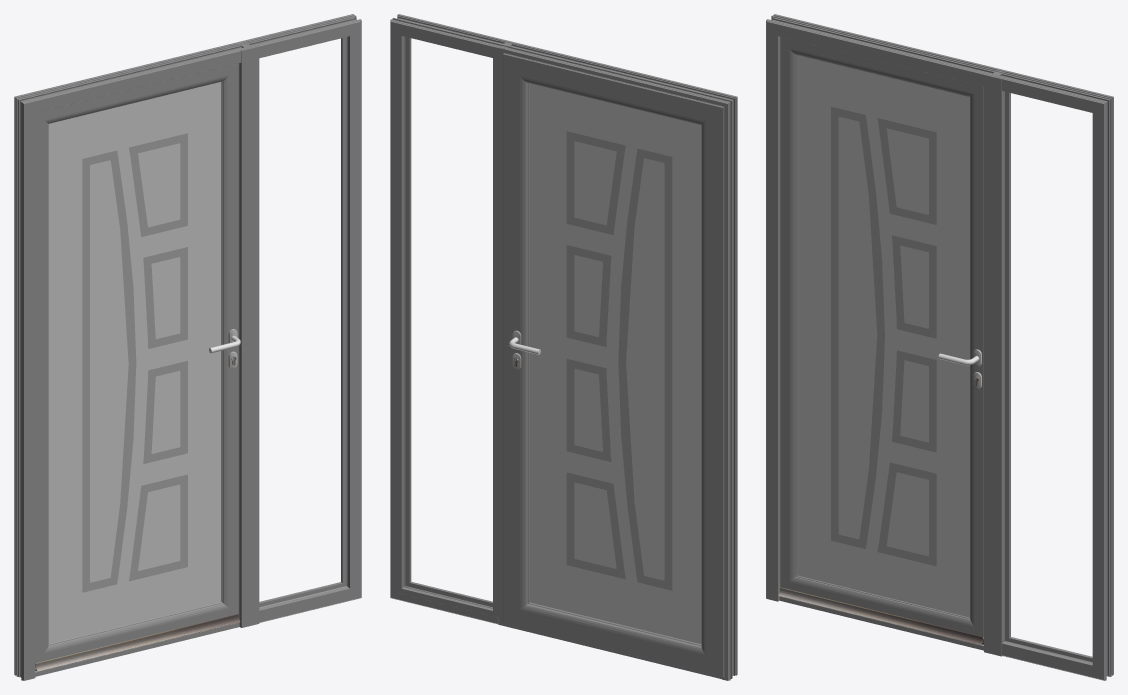
The picture shows the model from 3 angles, left to right: view 1: azimuth 30°, elevation 25°; view 2: azimuth 150°, elevation 25°; view 3: azimuth 330°, elevation 25°; orthographic projection.
Parts seen in each view (by area): view 1: fosco_26, aroFixo, aroMovel, transparente_26, montanteCentral, bite, borracha, escovas, rodaPe; view 2: fosco_26, aroMovel, aroFixo, transparente_26, bite, montanteCentral, borracha, rodaPe; view 3: fosco_26, aroFixo, aroMovel, transparente_26, montanteCentral, bite, escovas, borracha, rodaPe.
Boxes of the visible parts, box(x1,y1,x2,y2) form: fosco_26: box(48, 82, 221, 643); aroFixo: box(14, 14, 361, 680); aroMovel: box(35, 63, 238, 663); transparente_26: box(82, 133, 187, 592); montanteCentral: box(238, 42, 259, 627); bite: box(259, 37, 346, 607); borracha: box(259, 37, 345, 606); escovas: box(35, 614, 240, 671); rodaPe: box(35, 622, 239, 676); fosco_26: box(529, 83, 701, 644); aroMovel: box(503, 53, 724, 677); aroFixo: box(390, 14, 737, 680); transparente_26: box(566, 131, 672, 590); bite: box(396, 29, 498, 617); montanteCentral: box(498, 40, 518, 626); borracha: box(404, 36, 492, 608); rodaPe: box(505, 624, 721, 679); fosco_26: box(797, 55, 969, 617); aroFixo: box(766, 14, 1113, 680); aroMovel: box(780, 37, 983, 638); transparente_26: box(831, 106, 936, 566); montanteCentral: box(984, 70, 1004, 656); bite: box(1005, 91, 1092, 661); escovas: box(778, 587, 983, 645); borracha: box(1006, 92, 1092, 660); rodaPe: box(779, 596, 983, 650).
Bounding box in the file's own units: 1320 × 2149 × 185.
10 materials, 4 textured.
